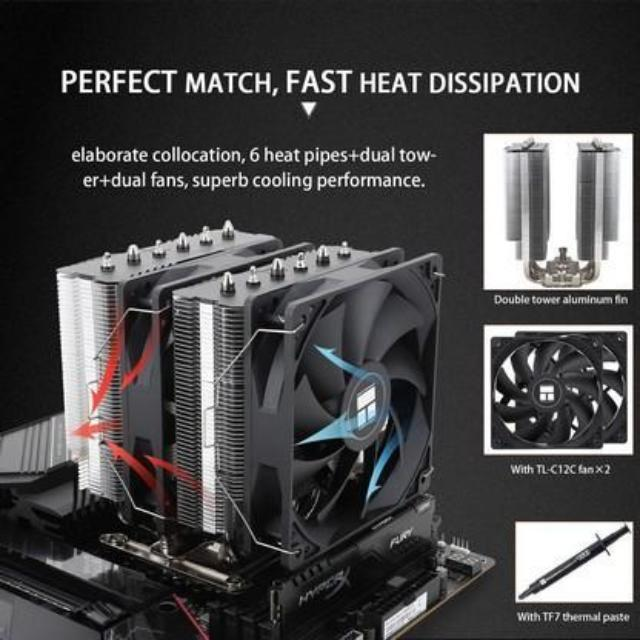CPU_Fan: (57, 218, 434, 546), (507, 139, 621, 287)
